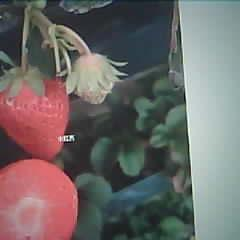straw-ripe: (0, 75, 69, 160)
